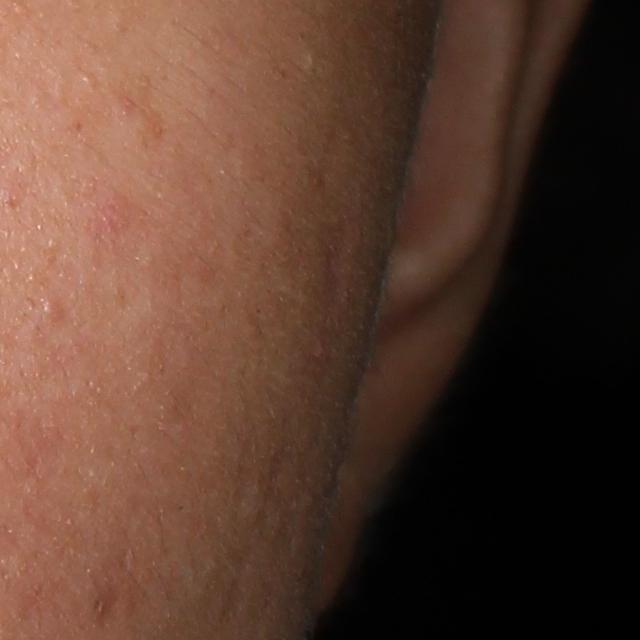comedo: (39, 297, 67, 325), (76, 68, 93, 89)
